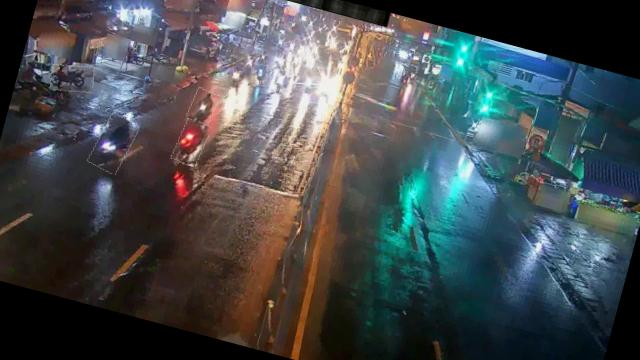Bike: (88, 110, 139, 176), (171, 116, 210, 168), (47, 59, 97, 98), (187, 86, 220, 126), (268, 68, 292, 96), (224, 64, 245, 92), (248, 62, 270, 86), (243, 56, 256, 72)
